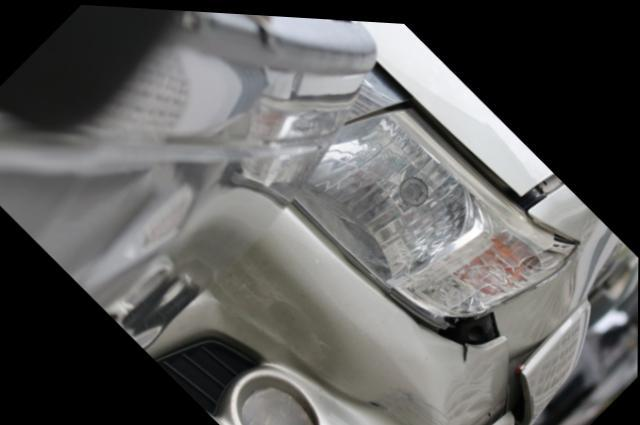crack: (463, 338, 469, 358)
dent: (306, 309, 436, 425)
lamp broken: (291, 102, 578, 327)
